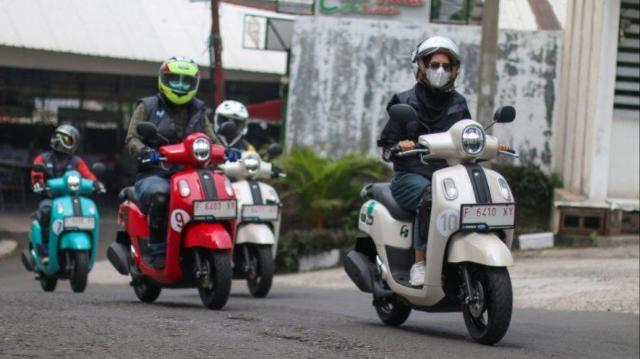helm: (412, 38, 464, 93), (156, 54, 204, 107), (215, 101, 252, 146), (52, 123, 83, 158)
motor: (340, 103, 528, 349), (107, 120, 245, 313), (20, 163, 110, 296), (213, 153, 293, 302)
